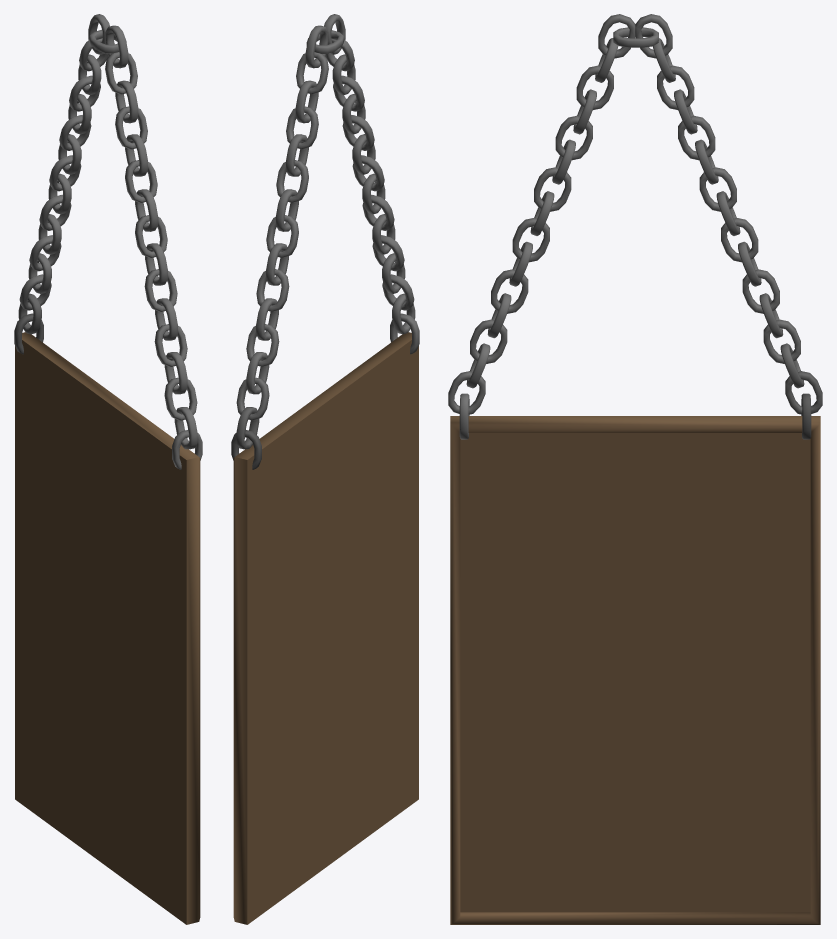
File: Signboard.obj
The picture shows the model from 3 angles, left to right: view 1: azimuth 30°, elevation 25°; view 2: azimuth 150°, elevation 25°; view 3: azimuth 270°, elevation 25°; orthographic projection. The views are drawn at different scales.
Parts seen in each view (by area): view 1: Cube; view 2: Cube; view 3: Cube.
Part boxes in pixels (left/top/right/bottom): Cube: left=14, top=14, right=202, bottom=924; Cube: left=231, top=14, right=419, bottom=924; Cube: left=448, top=14, right=822, bottom=924.
Bounding box in the file's own units: 1.25 × 36.18 × 13.54.
